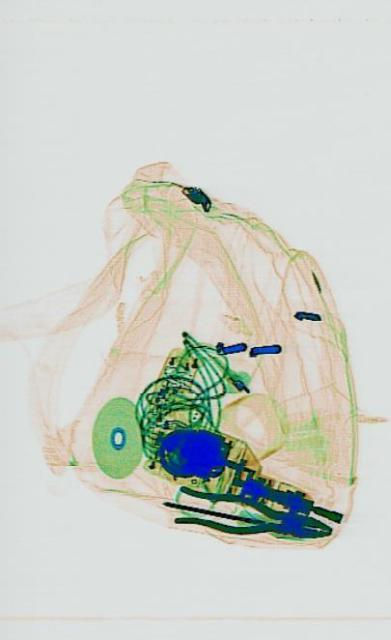Pliers: (173, 483, 332, 551)
